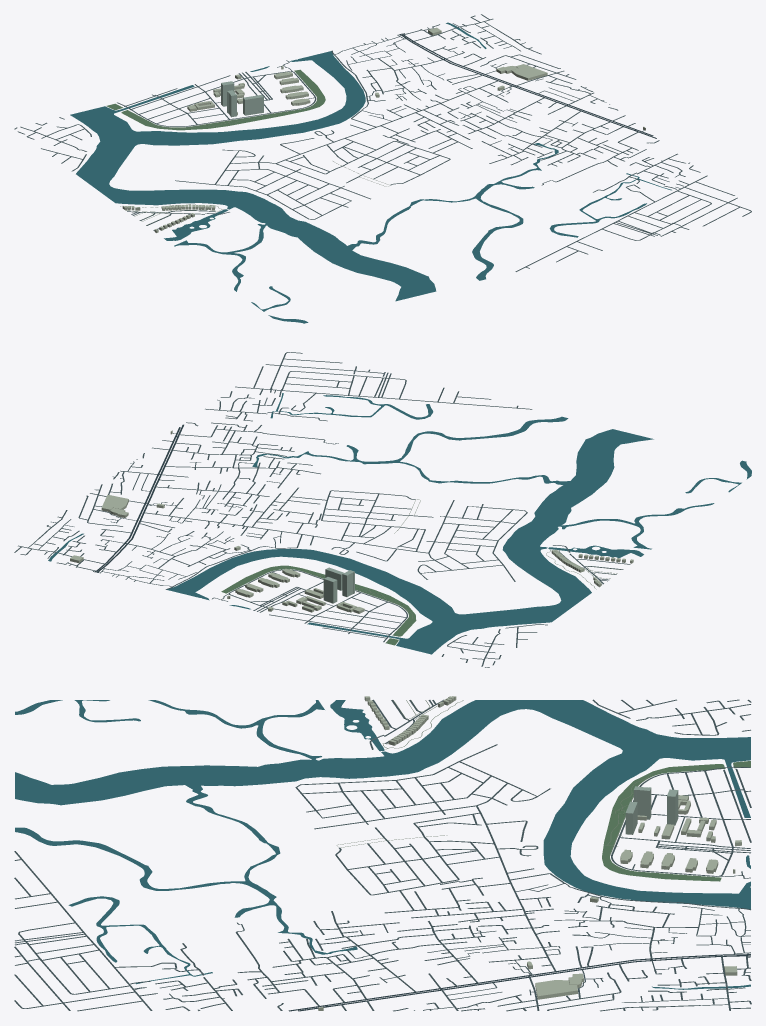
3 renders of one model, top to bottom at view 1: azimuth 30°, elevation 25°; view 2: azimuth 150°, elevation 25°; view 3: azimuth 270°, elevation 25°, orthographic. The views are drawn at different scales.
Visible parts, largest first — view 1: water, street, building, green, building-tagged, major; view 2: water, street, building, green, building-tagged, major; view 3: water, street, building, green, major, building-tagged, path.
Part boxes in pixels (left/top/right/bottom): water: left=70, top=22, right=671, bottom=323; street: left=14, top=14, right=751, bottom=271; building: left=122, top=27, right=645, bottom=232; green: left=106, top=69, right=325, bottom=130; building-tagged: left=221, top=81, right=263, bottom=117; major: left=400, top=33, right=656, bottom=138; water: left=48, top=393, right=751, bottom=654; street: left=14, top=352, right=630, bottom=667; building: left=70, top=430, right=633, bottom=613; green: left=221, top=565, right=416, bottom=645; building-tagged: left=323, top=567, right=354, bottom=603; major: left=94, top=424, right=183, bottom=572; water: left=15, top=700, right=750, bottom=989; street: left=14, top=699, right=751, bottom=1011; building: left=318, top=696, right=741, bottom=1010; green: left=602, top=761, right=750, bottom=881; major: left=288, top=954, right=750, bottom=1011; building-tagged: left=625, top=786, right=678, bottom=834; path: left=336, top=700, right=665, bottom=968.
Bounding box in the file's own units: 2005 × 86.6 × 2005.
